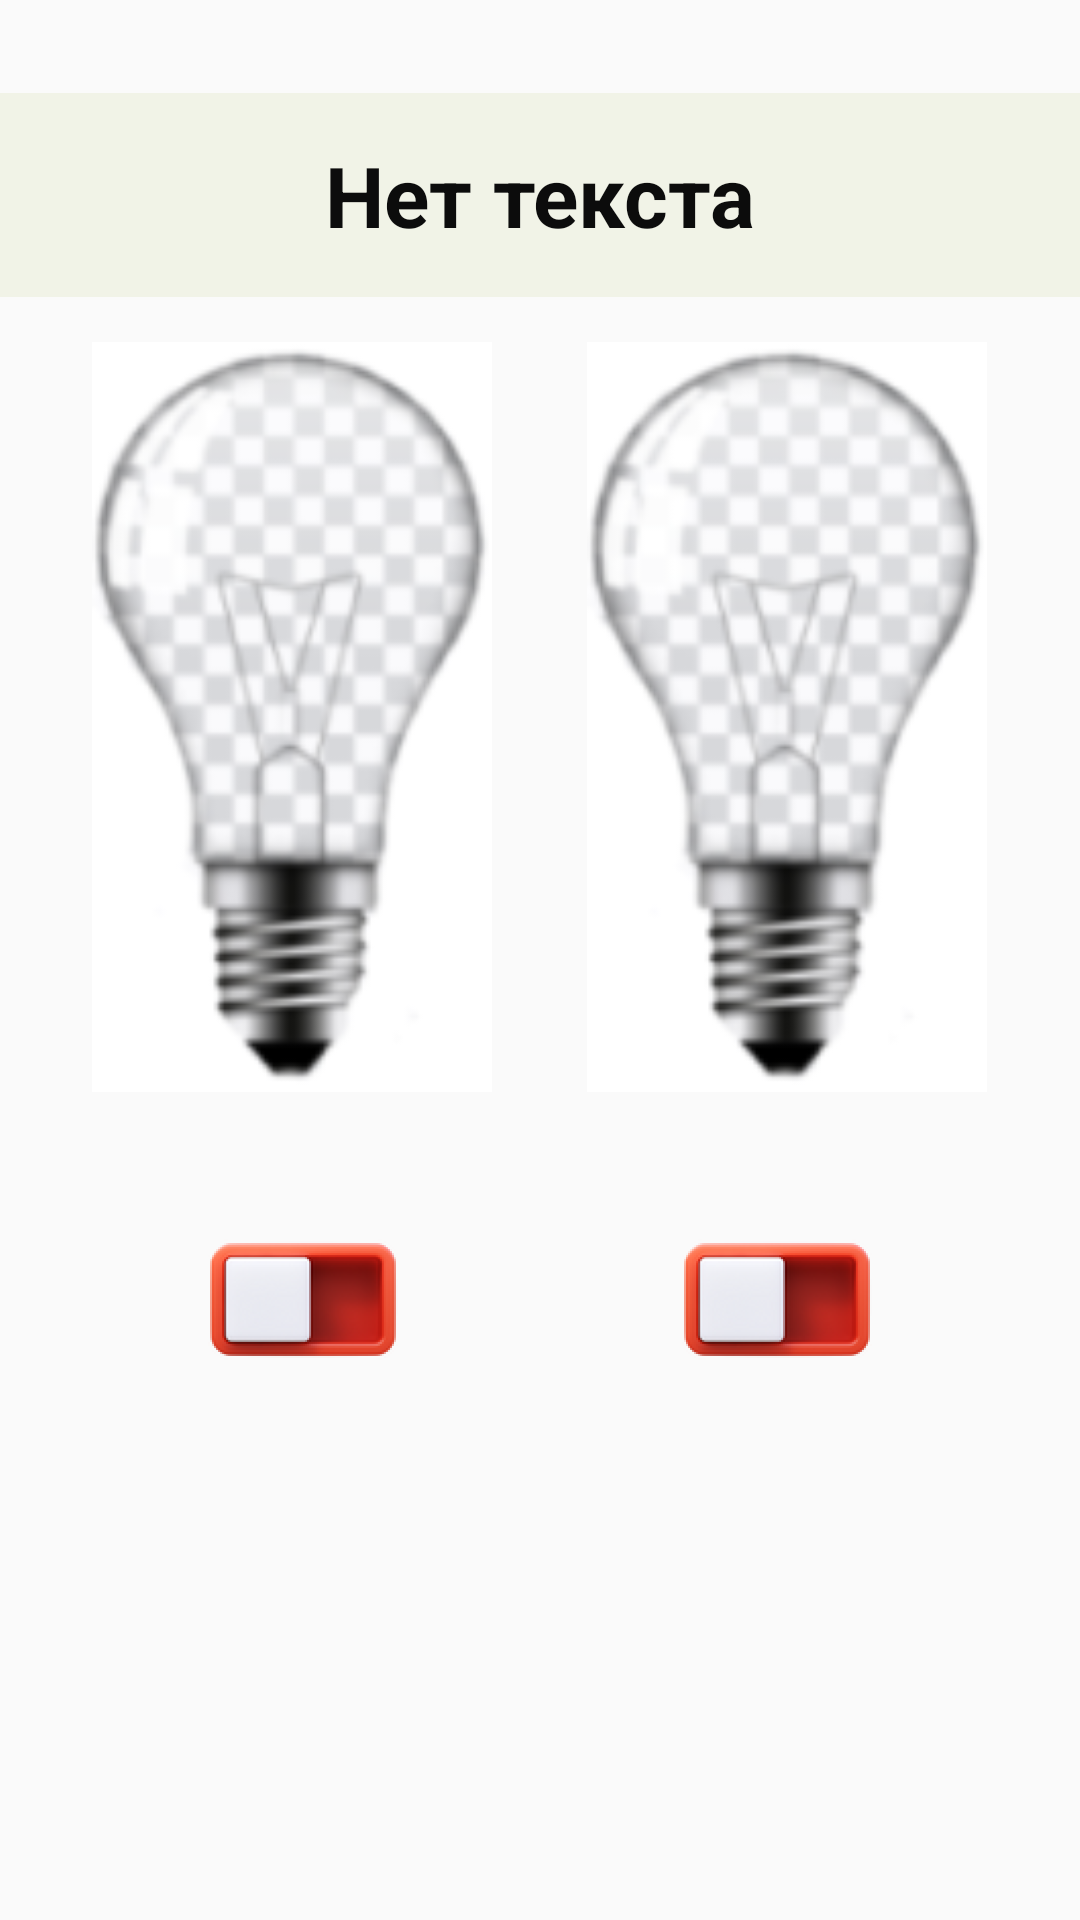

Screen size 1080x1920. Icon name, then its center in pixels as (x,y):
ВЫКЛЮЧИТЬ: (303,1299), (777,1299)
